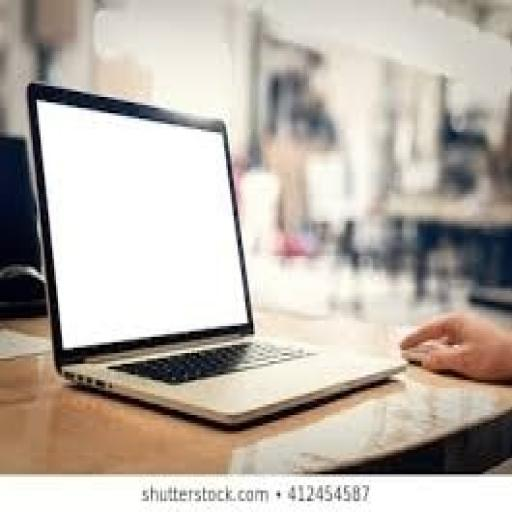using_laptop: (23, 78, 408, 429)
